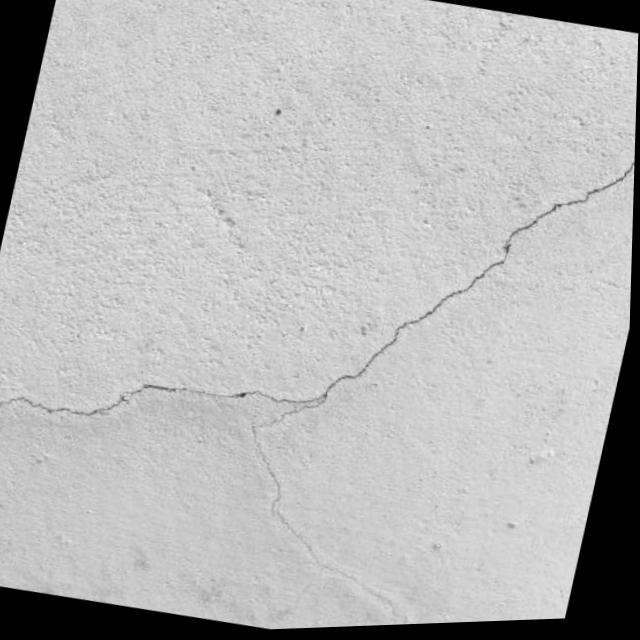Crack: (10, 327, 328, 580), (328, 177, 617, 378)
